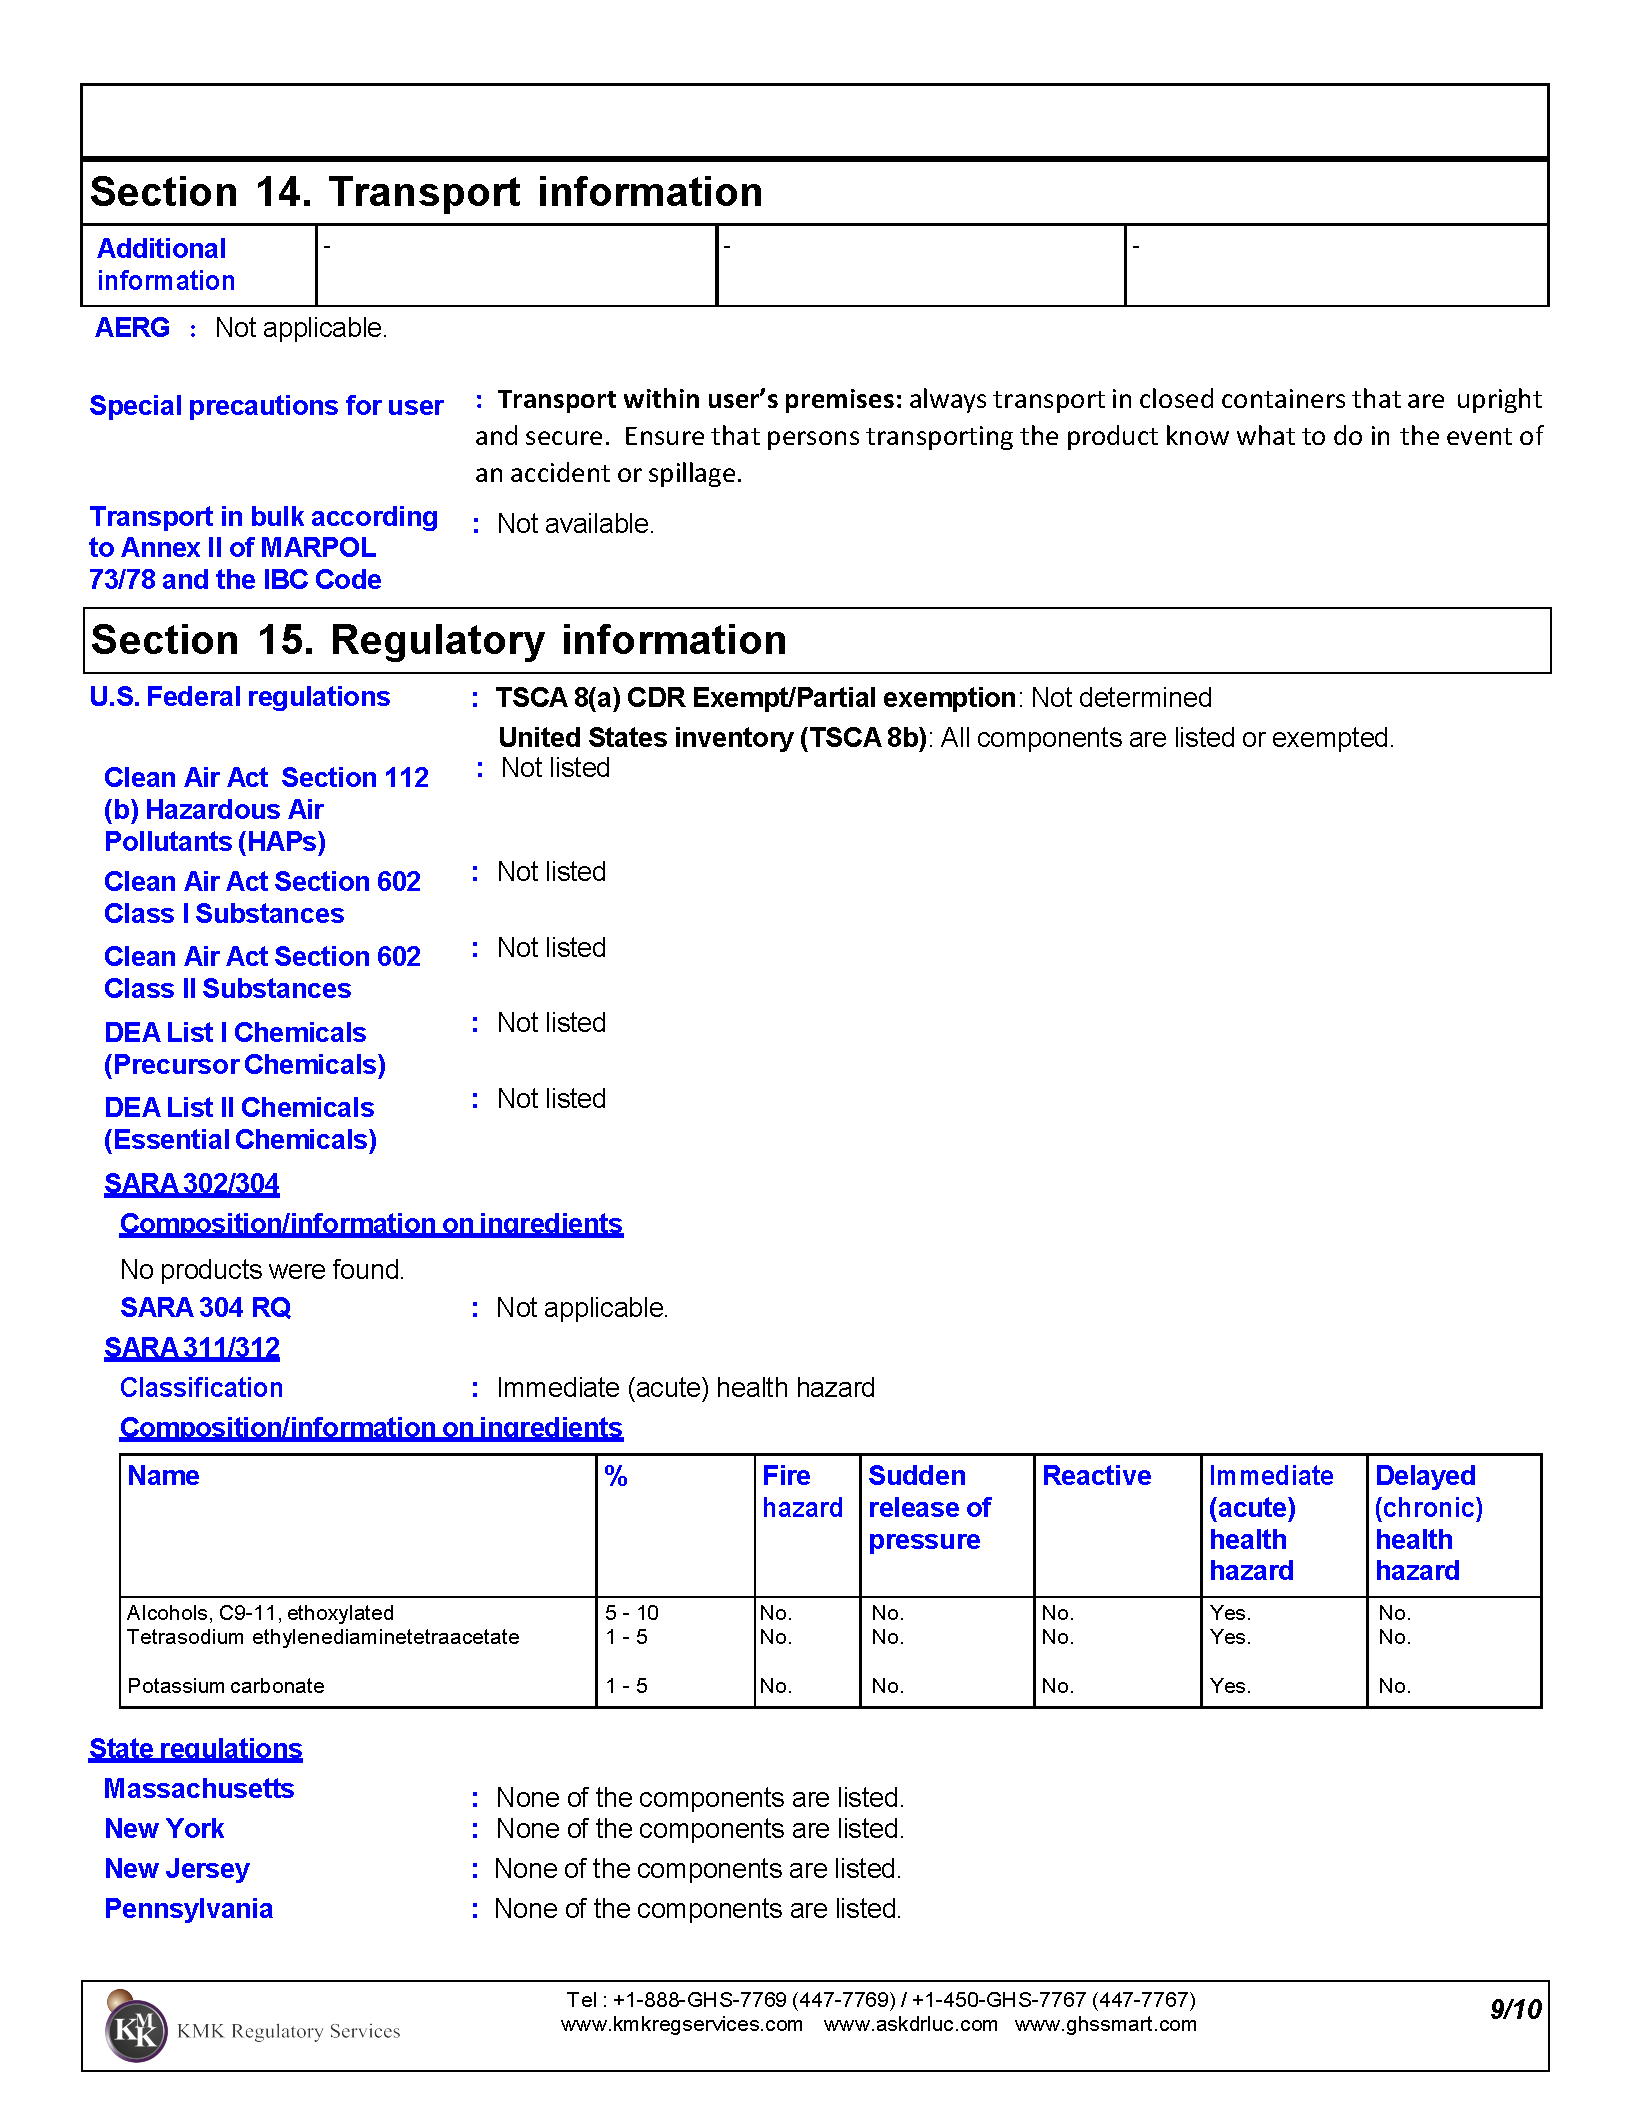table: (117, 1450, 1539, 1707), (79, 377, 1548, 609), (94, 749, 617, 1166), (99, 1771, 905, 1929), (84, 225, 1550, 305)
